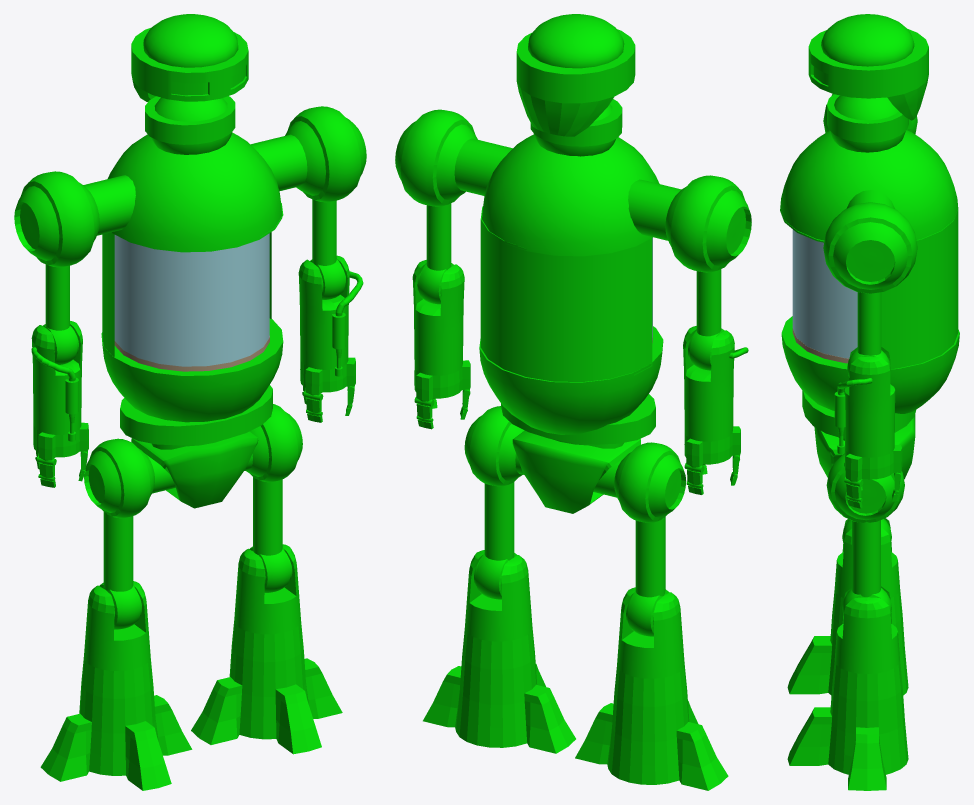
Rendered from RobotMesh.fbx.
3 renders of one model, left to right at view 1: azimuth 30°, elevation 25°; view 2: azimuth 150°, elevation 25°; view 3: azimuth 270°, elevation 25°, orthographic. The views are drawn at different scales.
Parts seen in each view (by area): view 1: polySurface101, polySurface97, polySurface99, polySurface98, Robot_hips, Robot_Head, polySurface74, Left_leg1, polySurface86, polySurface70, polySurface79, polySurface89 (+11 smaller); view 2: Robot_CapsolSupport, polySurface97, polySurface99, polySurface98, Robot_Head, Robot_hips, polySurface74, Left_leg1, polySurface70, polySurface89, polySurface79, polySurface86 (+7 smaller); view 3: polySurface97, polySurface98, Robot_Head, Robot_CapsolSupport, polySurface76, polySurface79, polySurface101, polySurface74, polySurface70, polySurface99, Robot_Neck_group, Robot_hips (+3 smaller).
Boxes of the visible parts, x1=… form: polySurface101: x1=114, y1=233, x2=269, y2=366; polySurface97: x1=191, y1=544, x2=342, y2=754; polySurface99: x1=40, y1=581, x2=192, y2=790; polySurface98: x1=107, y1=132, x2=282, y2=252; Robot_hips: x1=120, y1=385, x2=272, y2=508; Robot_Head: x1=131, y1=14, x2=248, y2=101; polySurface74: x1=101, y1=318, x2=283, y2=422; Left_leg1: x1=84, y1=438, x2=154, y2=629; polySurface86: x1=14, y1=171, x2=99, y2=267; polySurface70: x1=246, y1=404, x2=302, y2=592; polySurface79: x1=298, y1=255, x2=355, y2=422; polySurface89: x1=31, y1=321, x2=88, y2=487; Robot_CapsolSupport: x1=480, y1=206, x2=652, y2=381; polySurface97: x1=423, y1=550, x2=575, y2=753; polySurface99: x1=575, y1=587, x2=728, y2=790; polySurface98: x1=482, y1=134, x2=659, y2=256; Robot_Head: x1=516, y1=14, x2=635, y2=136; Robot_hips: x1=501, y1=394, x2=655, y2=513; polySurface74: x1=479, y1=326, x2=663, y2=434; Left_leg1: x1=614, y1=442, x2=686, y2=636; polySurface70: x1=464, y1=406, x2=524, y2=599; polySurface89: x1=683, y1=326, x2=740, y2=494; polySurface79: x1=413, y1=260, x2=470, y2=429; polySurface86: x1=665, y1=175, x2=751, y2=272; polySurface97: x1=787, y1=586, x2=908, y2=790; polySurface98: x1=780, y1=130, x2=958, y2=242; Robot_Head: x1=808, y1=14, x2=928, y2=120; Robot_CapsolSupport: x1=785, y1=209, x2=958, y2=368; polySurface76: x1=823, y1=202, x2=917, y2=293; polySurface79: x1=844, y1=347, x2=902, y2=508; polySurface101: x1=792, y1=229, x2=857, y2=358; polySurface74: x1=781, y1=316, x2=959, y2=413; polySurface70: x1=826, y1=453, x2=904, y2=617; polySurface99: x1=787, y1=518, x2=908, y2=695; Robot_Neck_group: x1=827, y1=94, x2=908, y2=152; Robot_hips: x1=802, y1=390, x2=915, y2=479.
Size of the model in its own units: 2 by 4.21 by 0.9782.
